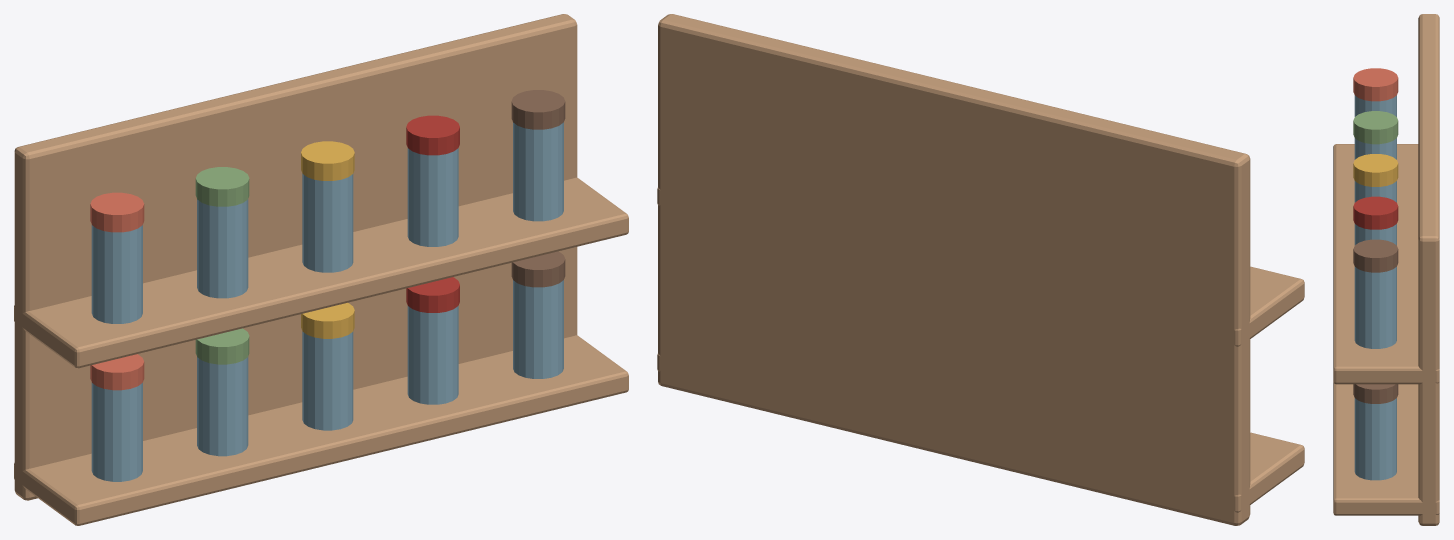
Rendered from hh_spice_rack.glb.
3 views of the same model, side by side, from view 1: azimuth 30°, elevation 25°; view 2: azimuth 150°, elevation 25°; view 3: azimuth 270°, elevation 25° (orthographic). The views are drawn at different scales.
Parts seen in each view (by area): view 1: back, shelf.001, shelf, jar.006, jar.001, jar.002, jar.003, jar.007, jar.008, jar, jar.005, jar.009 (+11 smaller); view 2: back, shelf.001, shelf; view 3: shelf.001, back, shelf, jar.009, jar.004, lid.008, lid.005, lid.006, lid.009, lid.007, lid.004, jar.008 (+3 smaller).
Boxes of the visible parts, x1=… form: back: x1=14, y1=14, x2=577, y2=500; shelf.001: x1=14, y1=177, x2=628, y2=368; shelf: x1=14, y1=335, x2=628, y2=525; jar.006: x1=197, y1=199, x2=248, y2=298; jar.001: x1=197, y1=357, x2=248, y2=456; jar.002: x1=302, y1=331, x2=353, y2=430; jar.003: x1=407, y1=306, x2=458, y2=404; jar.007: x1=302, y1=173, x2=353, y2=272; jar.008: x1=407, y1=148, x2=458, y2=246; jar: x1=91, y1=382, x2=142, y2=481; jar.005: x1=91, y1=225, x2=142, y2=323; jar.009: x1=513, y1=122, x2=563, y2=221; back: x1=658, y1=14, x2=1250, y2=525; shelf.001: x1=657, y1=187, x2=1304, y2=346; shelf: x1=657, y1=353, x2=1304, y2=512; shelf.001: x1=1333, y1=144, x2=1439, y2=384; back: x1=1418, y1=14, x2=1439, y2=525; shelf: x1=1333, y1=382, x2=1439, y2=515; jar.009: x1=1354, y1=267, x2=1396, y2=348; jar.004: x1=1354, y1=398, x2=1396, y2=480; lid.008: x1=1353, y1=196, x2=1398, y2=229; lid.005: x1=1353, y1=68, x2=1398, y2=101; lid.006: x1=1353, y1=111, x2=1398, y2=144; lid.009: x1=1353, y1=239, x2=1398, y2=272; lid.007: x1=1353, y1=154, x2=1398, y2=186; lid.004: x1=1353, y1=384, x2=1398, y2=403; jar.008: x1=1354, y1=224, x2=1396, y2=245.
Size of the model in its own units: 0.5 by 0.3 by 0.1.
